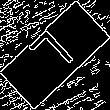L_SE: (27, 26, 83, 84)
